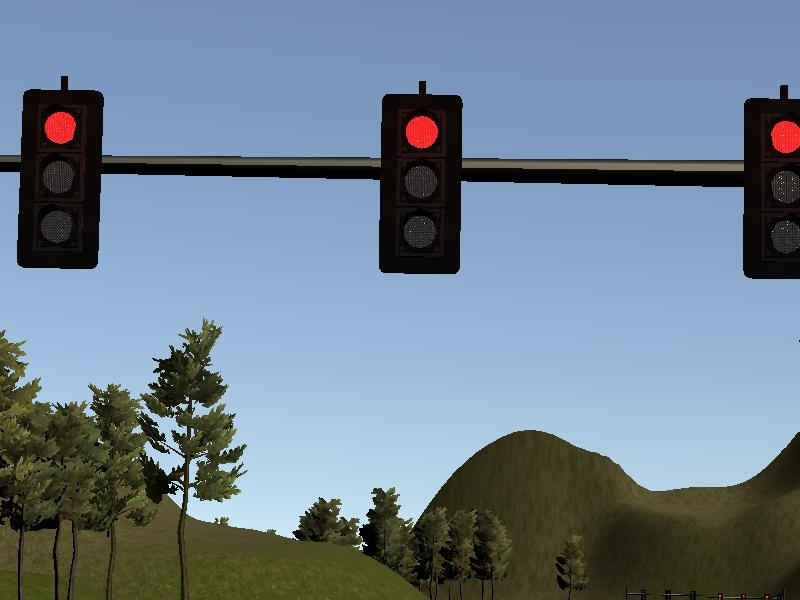RED: (14, 89, 103, 268), (379, 95, 460, 274), (741, 97, 800, 281)
